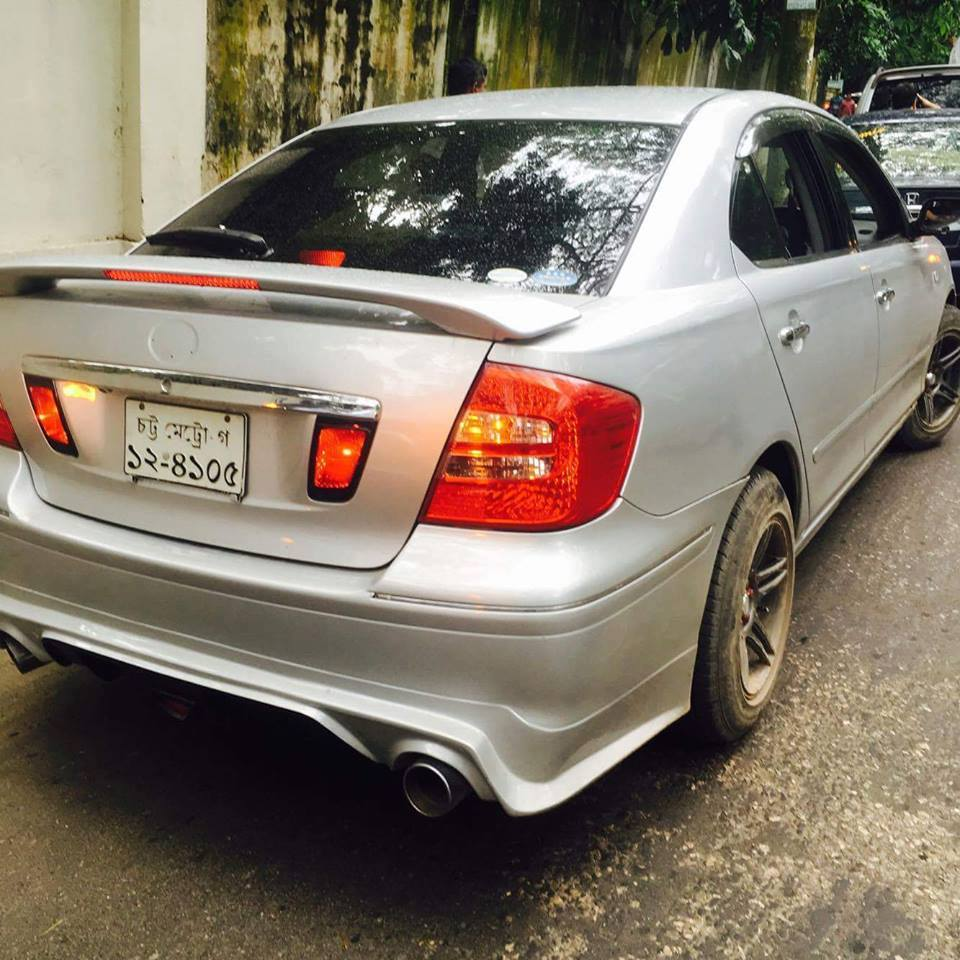registration_plate: (123, 395, 248, 499)
